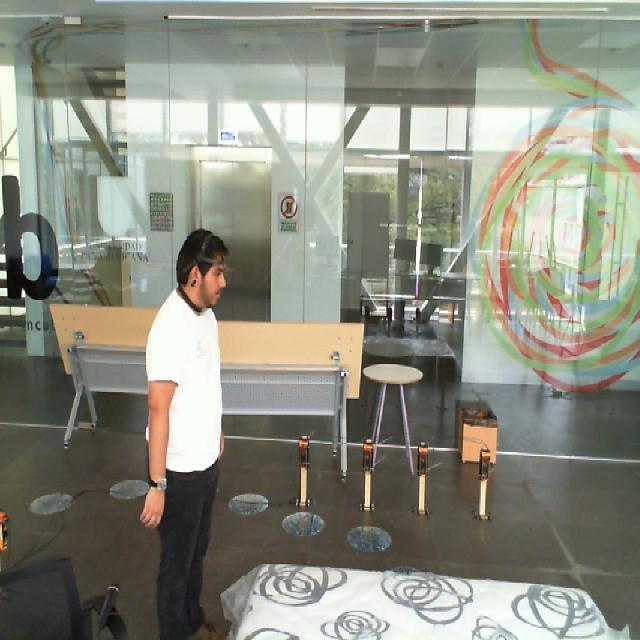walking: (125, 225, 237, 639)
